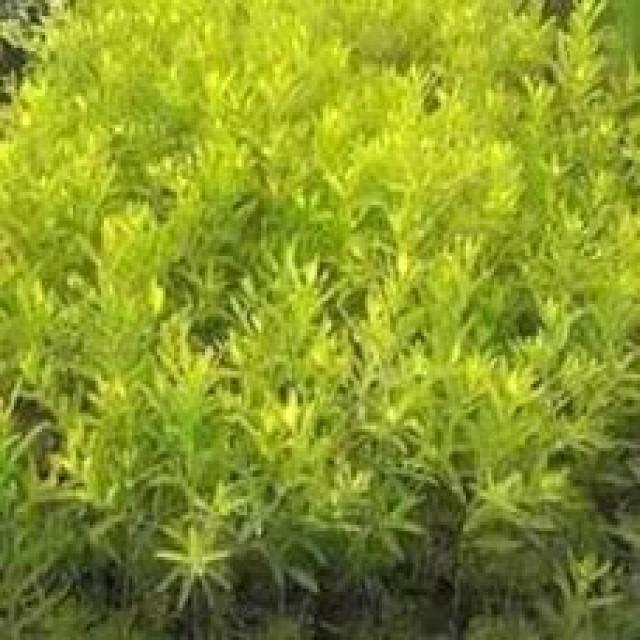Medicinal-Sandalwood: (38, 38, 606, 600)
